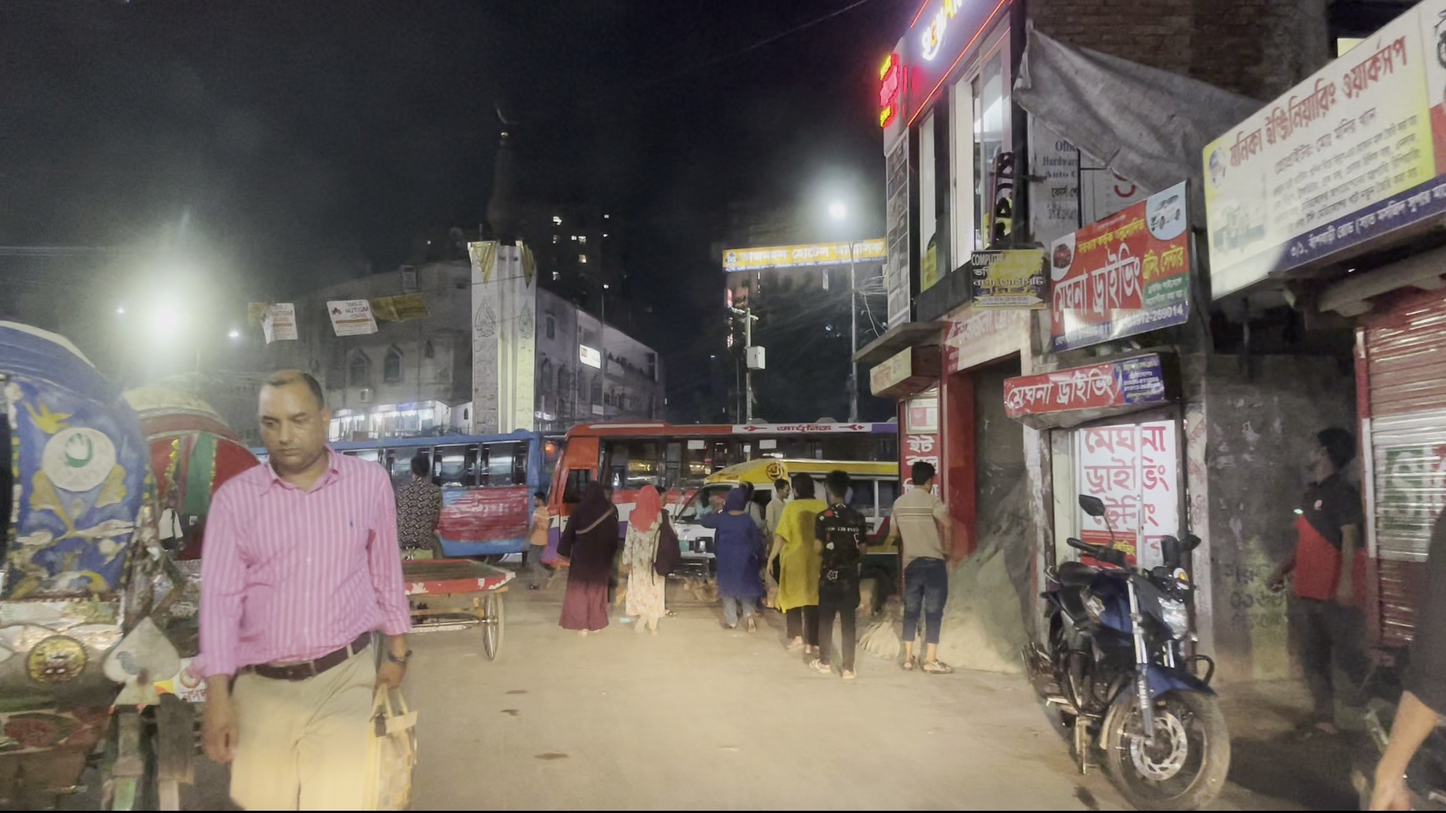bus: (533, 412, 908, 568), (306, 423, 564, 566)
person: (196, 355, 405, 813), (1279, 421, 1383, 746), (888, 457, 958, 681), (813, 470, 874, 682), (624, 455, 689, 635), (773, 469, 832, 657), (702, 480, 766, 640), (560, 475, 623, 637)
